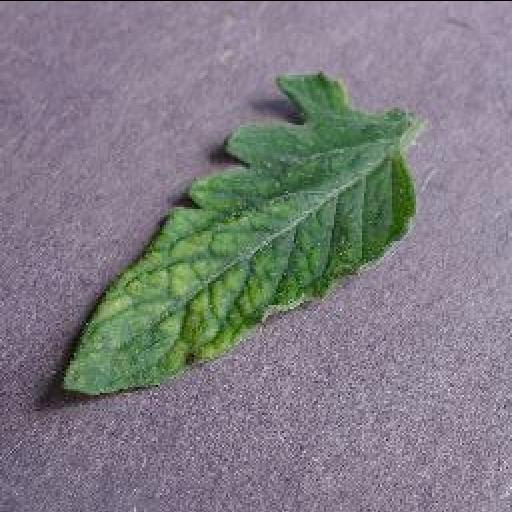disease_tomato: (58, 66, 416, 394)
